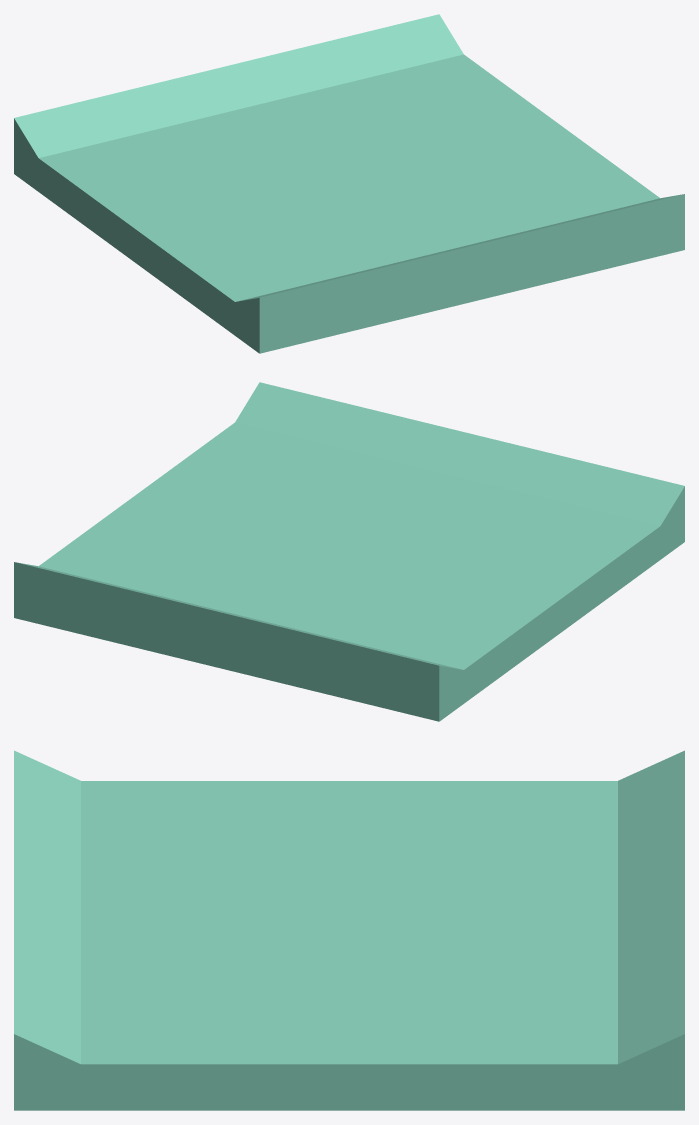
The model's file is roof_flat.glb.
3 renders of one model, top to bottom at view 1: azimuth 30°, elevation 25°; view 2: azimuth 150°, elevation 25°; view 3: azimuth 270°, elevation 25°, orthographic. The views are drawn at different scales.
Visible parts, largest first — view 1: roofFlat; view 2: roofFlat; view 3: roofFlat.
Boxes of the visible parts, x1,y1,x2,y2 form: roofFlat: [14, 14, 684, 353]; roofFlat: [14, 382, 684, 721]; roofFlat: [14, 750, 684, 1110].
Size of the model in its own units: 1 by 0.1259 by 1.
